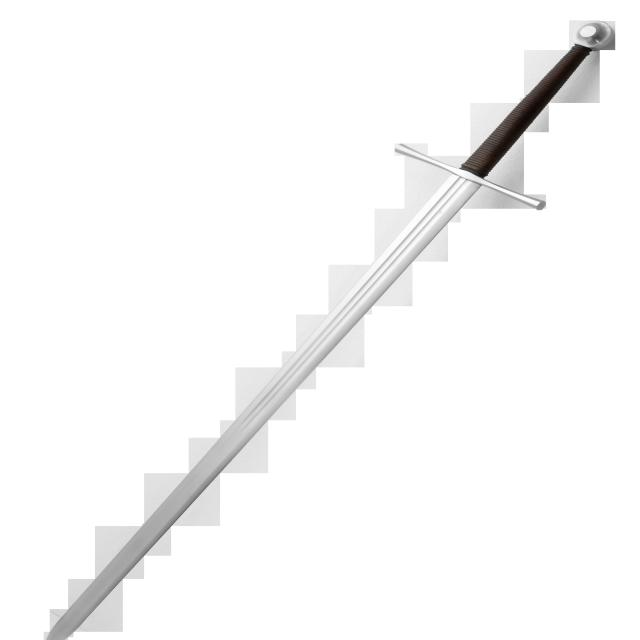Weapon: (46, 42, 590, 640)
